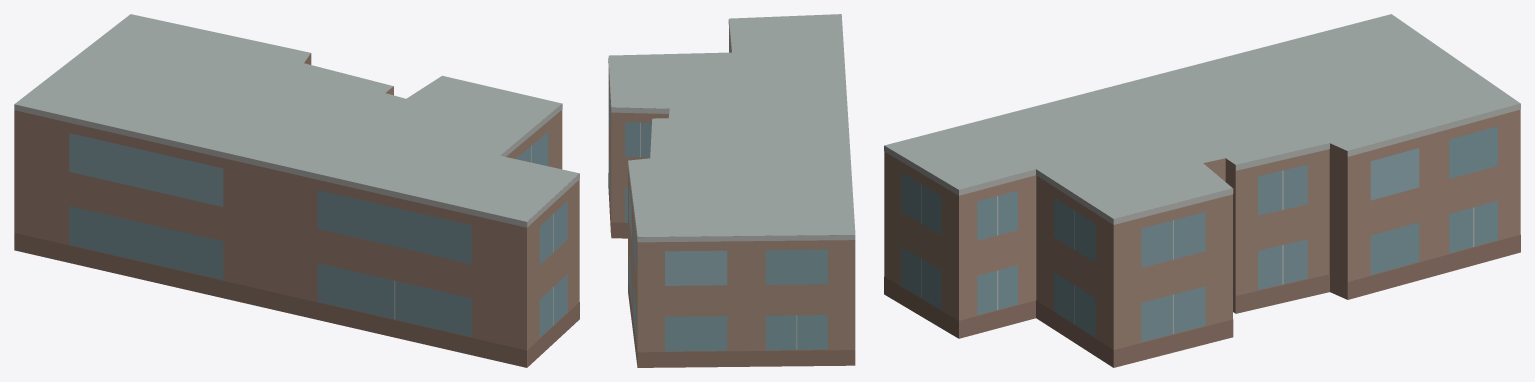
File: survey-upis-33046120.glb
3 views of the same model, side by side, from view 1: azimuth 30°, elevation 25°; view 2: azimuth 150°, elevation 25°; view 3: azimuth 270°, elevation 25° (orthographic). The views are drawn at different scales.
Parts seen in each view (by area): view 1: survey-upis-33046120.tmp; view 2: survey-upis-33046120.tmp; view 3: survey-upis-33046120.tmp.
Boxes of the visible parts, <box> form: survey-upis-33046120.tmp: <box>14,14,579,367</box>; survey-upis-33046120.tmp: <box>608,14,855,367</box>; survey-upis-33046120.tmp: <box>884,14,1520,367</box>.
Size of the model in its own units: 18.02 by 6.1 by 23.65.
